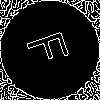F: (25, 25, 79, 69)
